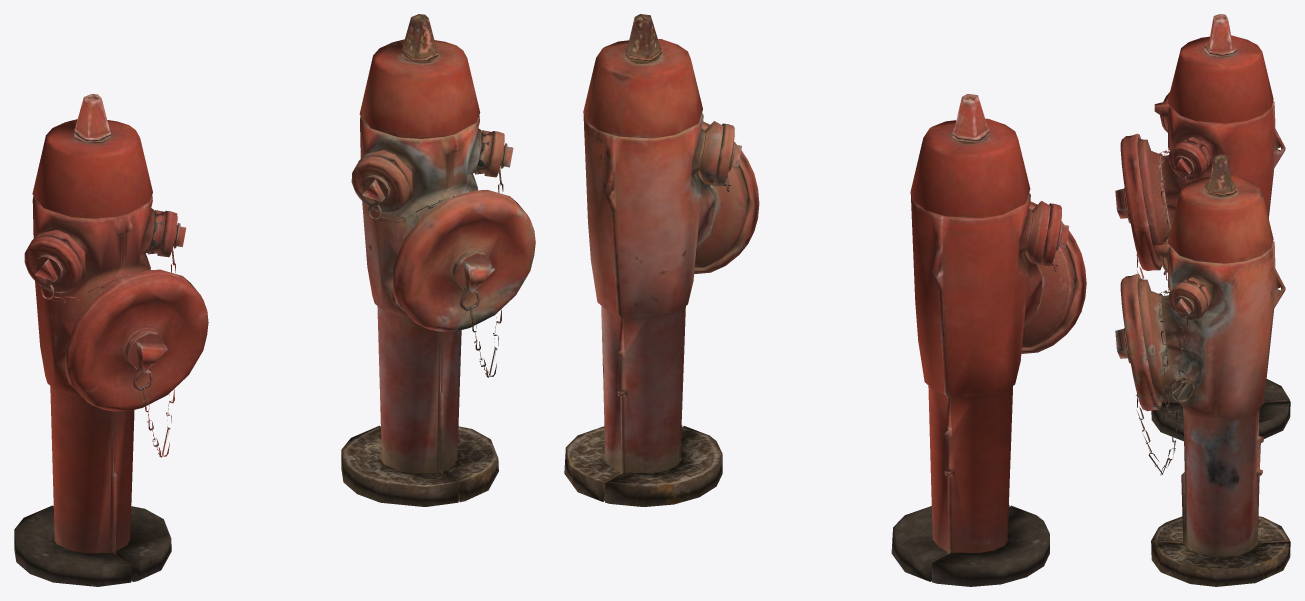
Rendered from fire_hydrant.glb.
3 renders of one model, left to right at view 1: azimuth 30°, elevation 25°; view 2: azimuth 150°, elevation 25°; view 3: azimuth 270°, elevation 25°, orthographic. The views are drawn at different scales.
Visible parts, largest first — view 1: fire_hydrant_aged, fire_hydrant, fire_hydrant_cap_01, fire_hydrant_cap_01_aged, fire_hydrant_cap_03, fire_hydrant_cap_03_aged, fire_hydrant_chain_aged, fire_hydrant_chain, fire_hydrant_cap_02, fire_hydrant_cap_02_aged; view 2: fire_hydrant_aged, fire_hydrant, fire_hydrant_cap_01, fire_hydrant_cap_01_aged, fire_hydrant_cap_03_aged, fire_hydrant_cap_03; view 3: fire_hydrant_aged, fire_hydrant, fire_hydrant_cap_01_aged, fire_hydrant_cap_01, fire_hydrant_chain_aged, fire_hydrant_cap_02_aged, fire_hydrant_cap_02, fire_hydrant_chain.
Boxes of the visible parts, box(x1,y1,x2,y2) form: fire_hydrant_aged: box(341, 14, 498, 506); fire_hydrant: box(14, 94, 171, 586); fire_hydrant_cap_01: box(65, 269, 208, 411); fire_hydrant_cap_01_aged: box(392, 190, 535, 331); fire_hydrant_cap_03: box(24, 235, 83, 293); fire_hydrant_cap_03_aged: box(351, 155, 410, 213); fire_hydrant_chain_aged: box(368, 145, 504, 377); fire_hydrant_chain: box(40, 224, 177, 457); fire_hydrant_cap_02: box(157, 210, 186, 257); fire_hydrant_cap_02_aged: box(484, 131, 513, 177); fire_hydrant_aged: box(564, 14, 747, 506); fire_hydrant: box(891, 94, 1074, 586); fire_hydrant_cap_01: box(1021, 201, 1086, 353); fire_hydrant_cap_01_aged: box(694, 121, 759, 274); fire_hydrant_cap_03_aged: box(712, 123, 741, 186); fire_hydrant_cap_03: box(1039, 203, 1069, 265); fire_hydrant_aged: box(1138, 154, 1290, 586); fire_hydrant: box(1138, 14, 1290, 441); fire_hydrant_cap_01_aged: box(1115, 273, 1161, 411); fire_hydrant_cap_01: box(1115, 133, 1161, 270); fire_hydrant_chain_aged: box(1136, 289, 1194, 475); fire_hydrant_cap_02_aged: box(1168, 282, 1207, 320); fire_hydrant_cap_02: box(1168, 142, 1207, 180); fire_hydrant_chain: box(1136, 149, 1193, 280).
Size of the model in its own units: 0.8746 by 0.7992 by 0.3173.
Materials: 2 (2 with a texture image).
